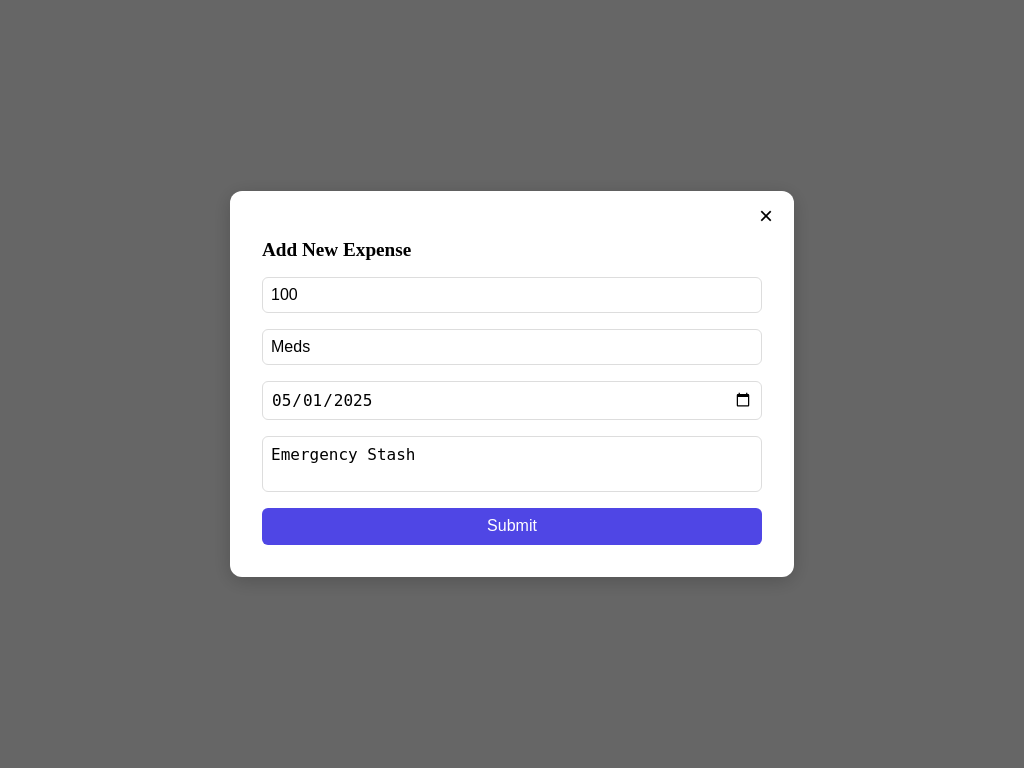
Test case: ExpenseModal Component › resets the form state after submission
The image size is (1024, 768).
Click the button "Submit": x=512, y=526 [262,508,762,545]
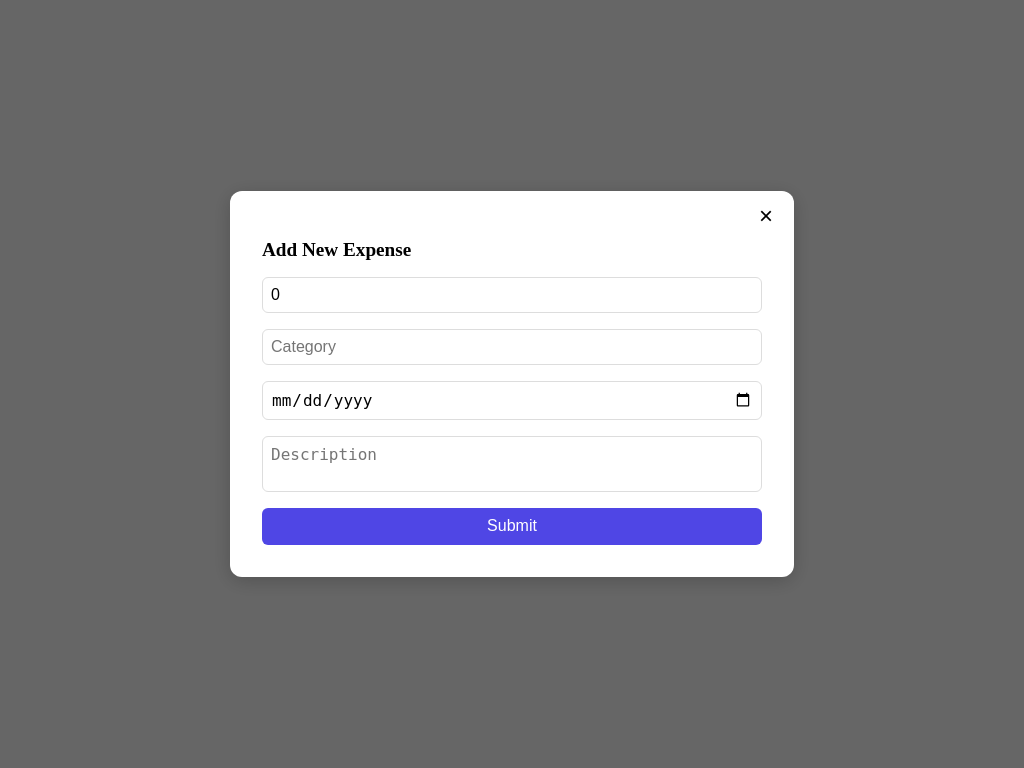
Expected: the number field named "Amount" holds "0", [262,277,762,313]
Expected: the field labelled "Category" is empty, [262,329,762,365]
Expected: the date field named "date" is empty, [262,381,762,420]
